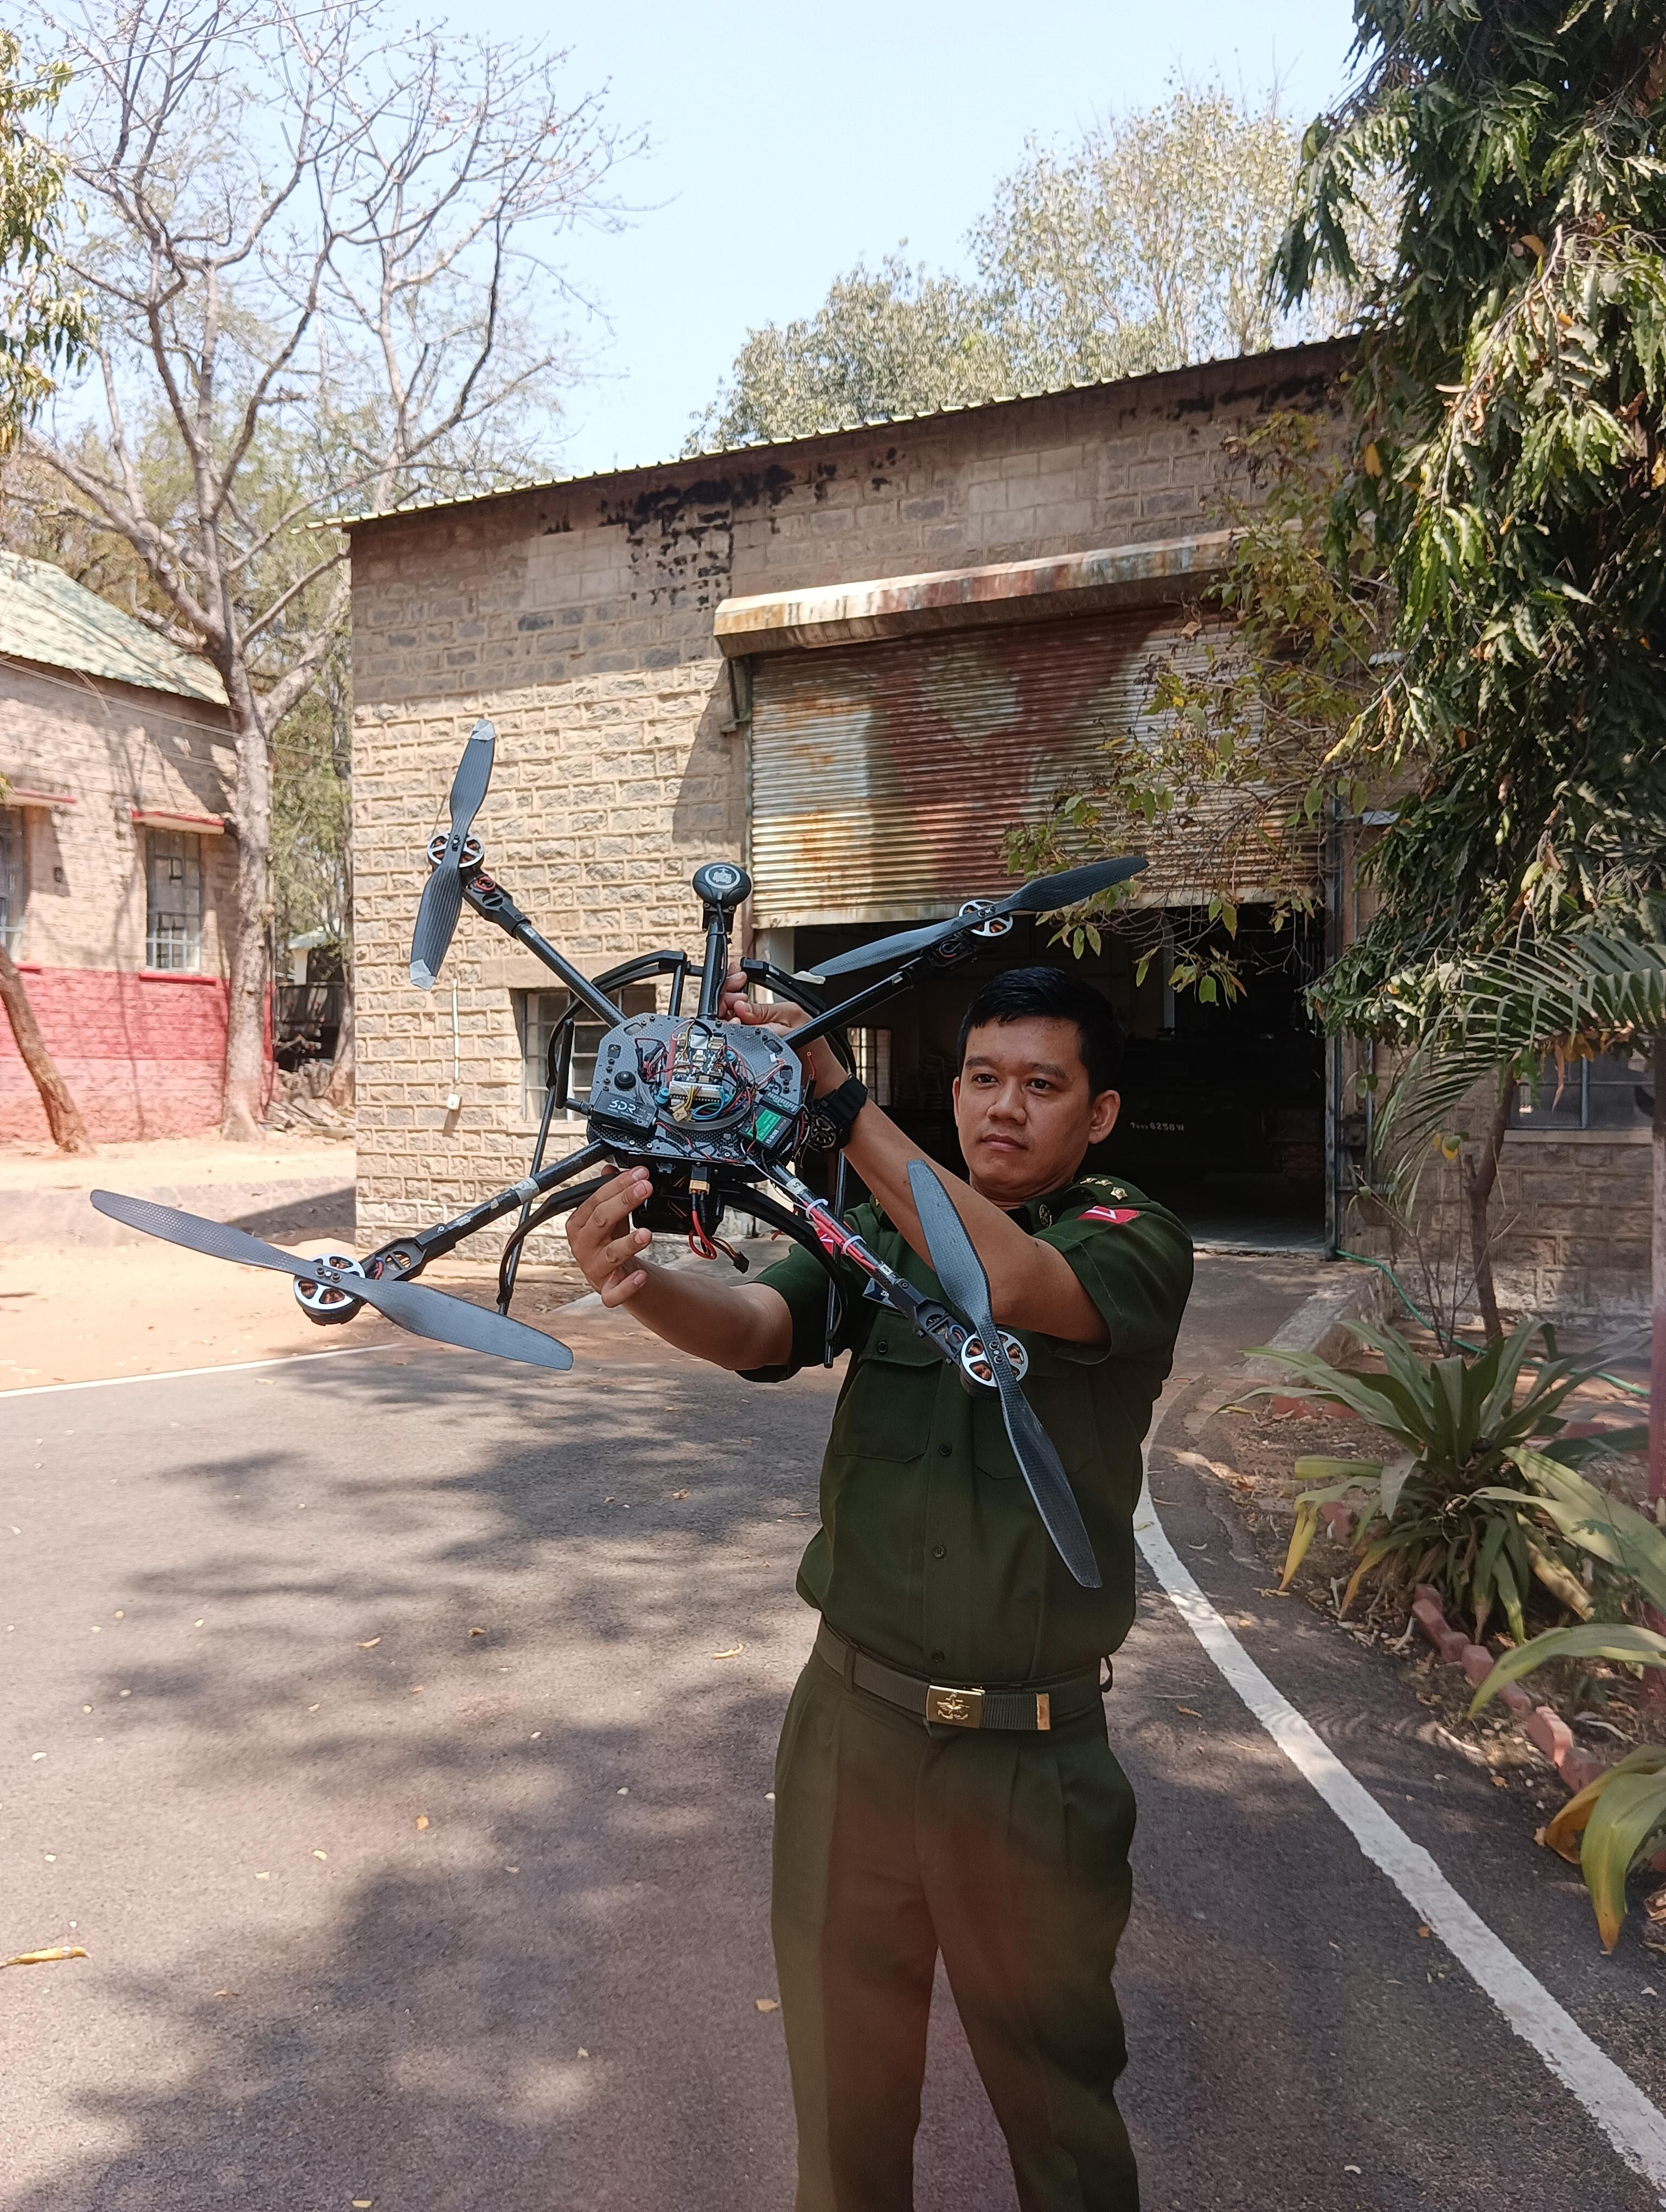drone: (82, 689, 1255, 1630)
